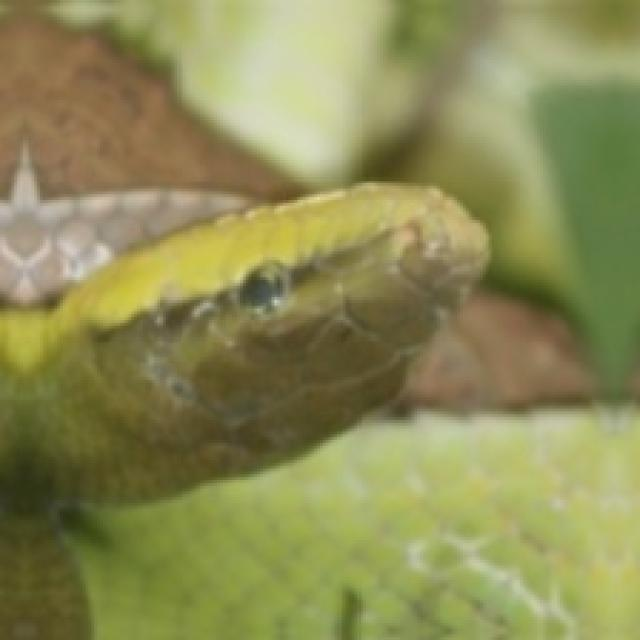red-tailed green ratsnake: (0, 183, 486, 637)
